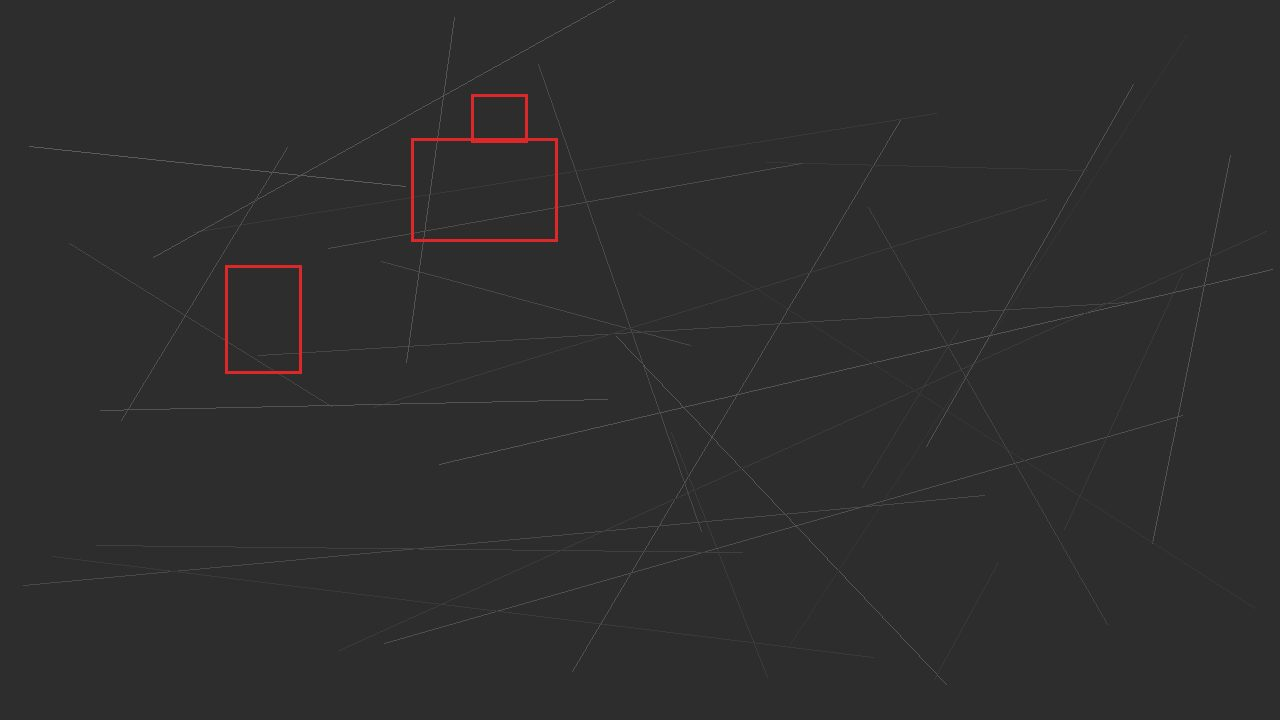D40: (411, 138, 557, 241), (225, 265, 301, 373), (471, 94, 527, 142)
